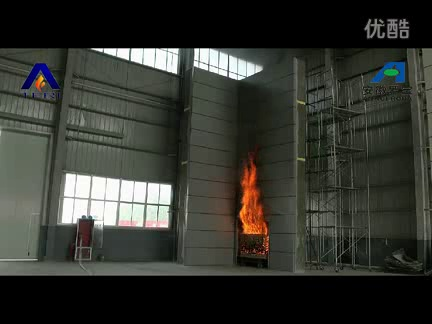fire: (237, 160, 269, 235)
